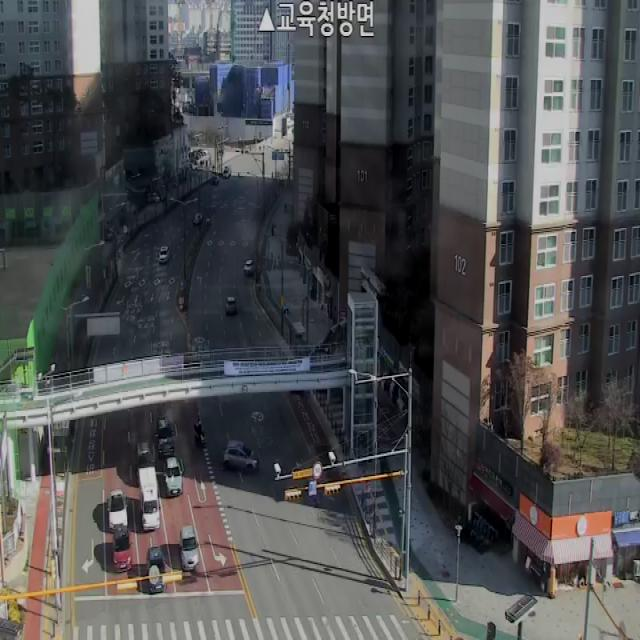Car: (224, 440, 259, 472), (146, 548, 166, 594), (114, 524, 133, 572), (108, 490, 128, 532), (181, 525, 198, 571), (164, 457, 183, 497), (136, 442, 156, 479), (226, 297, 237, 314), (159, 247, 170, 263), (244, 260, 254, 272), (223, 165, 231, 178), (193, 213, 202, 224)
Truck: (140, 466, 160, 531), (156, 416, 174, 458)
